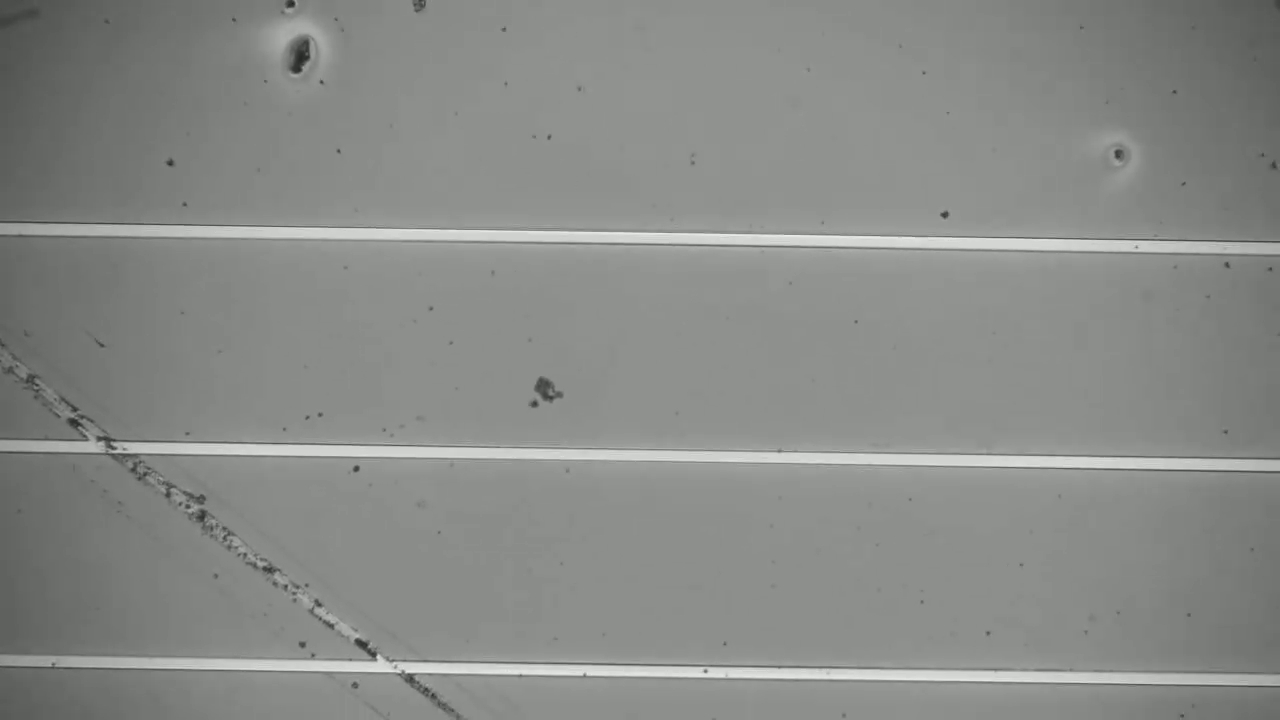scratch: (9, 360, 467, 713)
